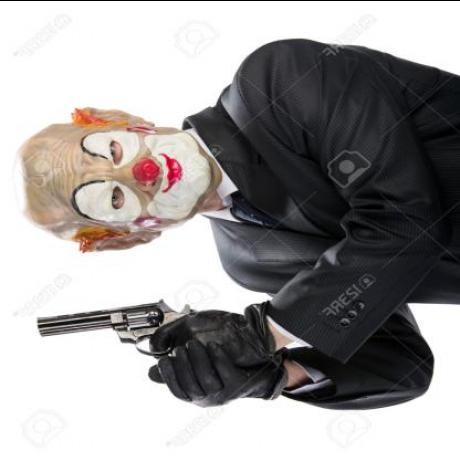1: (15, 37, 460, 412)
weapon: (30, 294, 197, 368)
